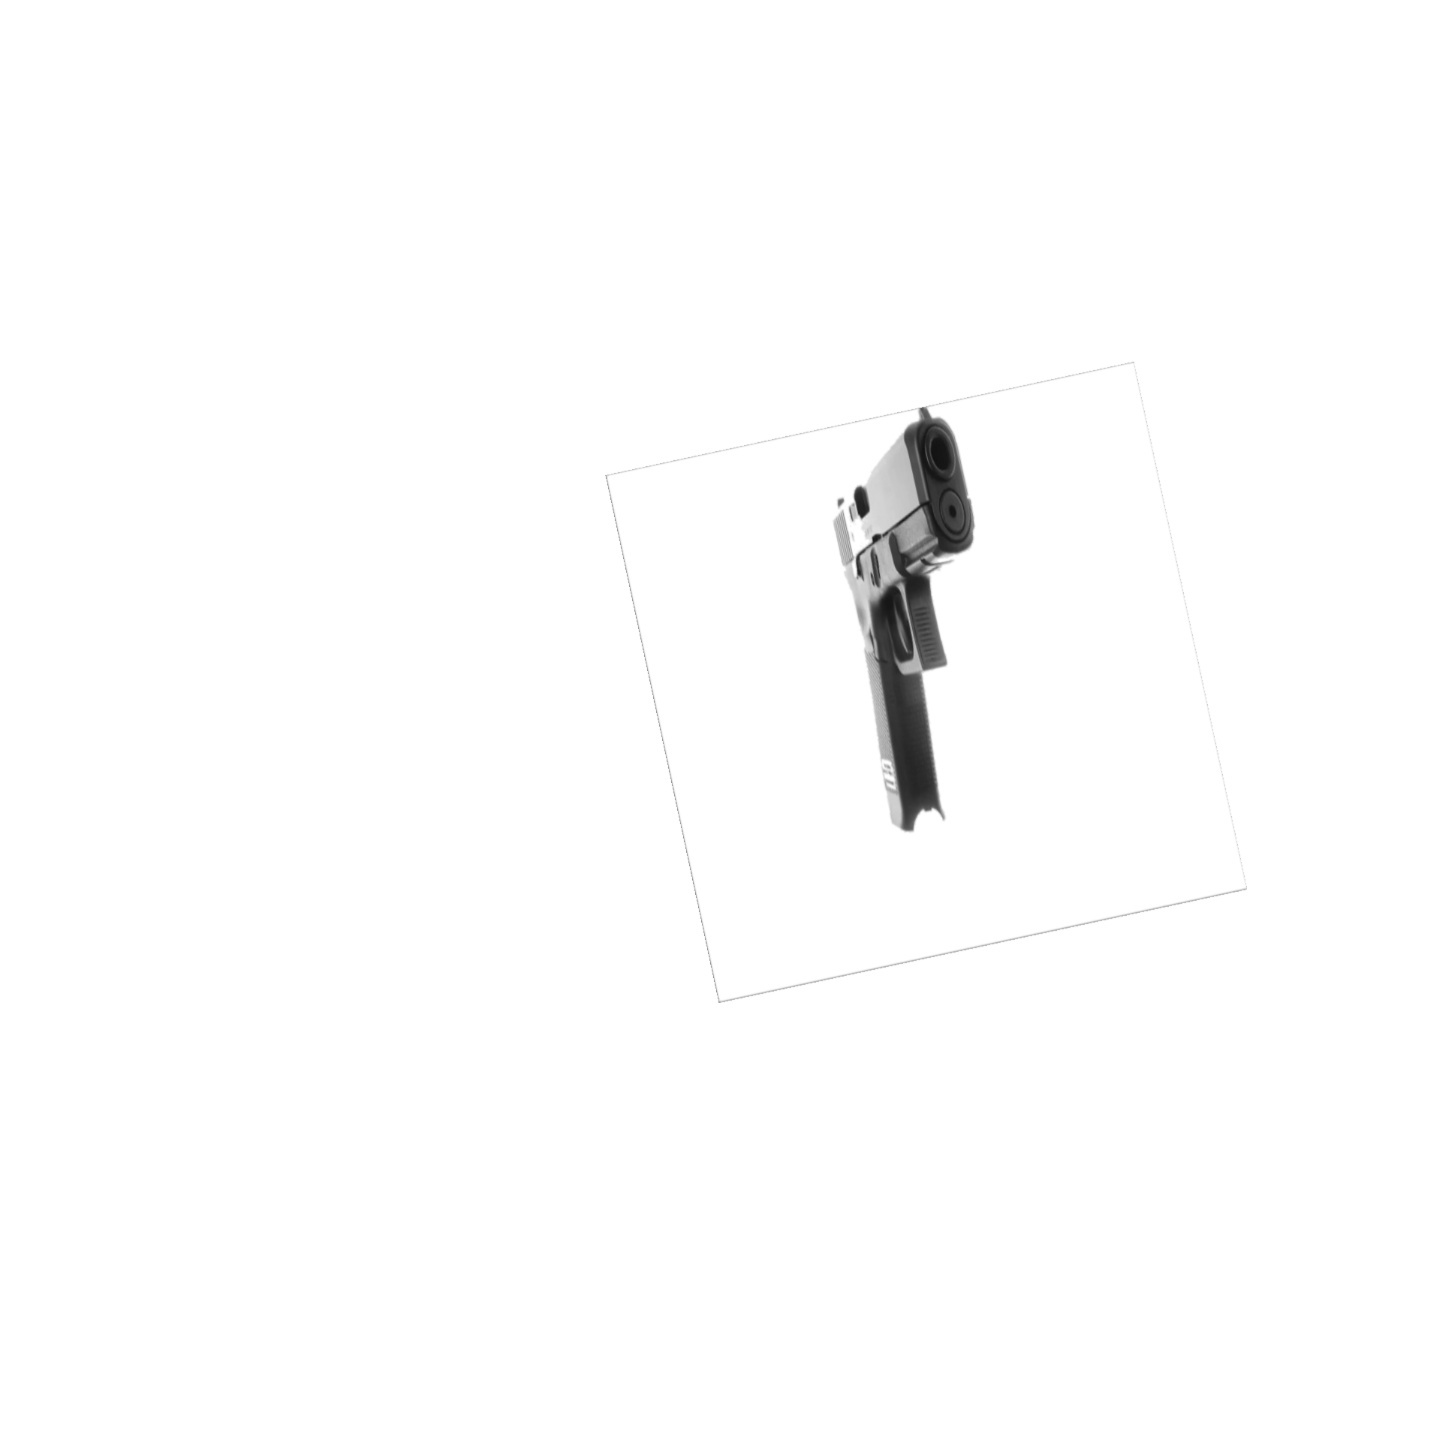gun: (827, 407, 972, 832)
